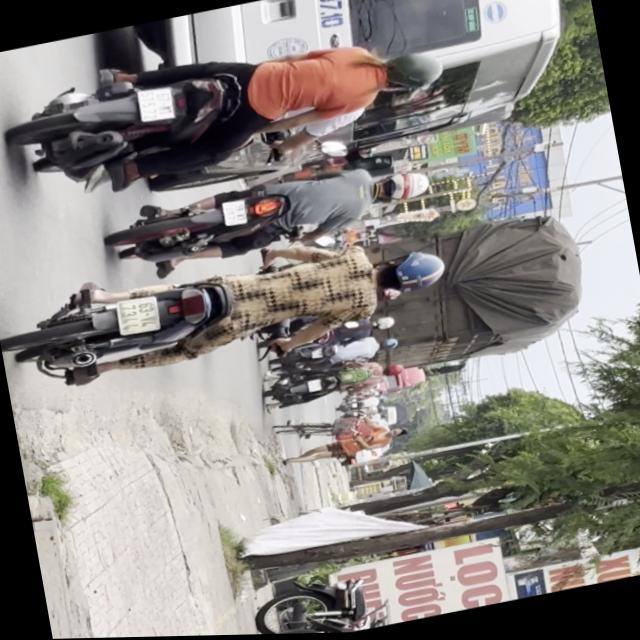helmet: (372, 46, 447, 100), (372, 245, 448, 298), (371, 166, 433, 207)
licenseplate: (0, 2, 460, 212), (0, 214, 458, 407), (101, 146, 438, 282)
nohelmet: (114, 295, 161, 336), (135, 85, 174, 124), (222, 199, 249, 227)
